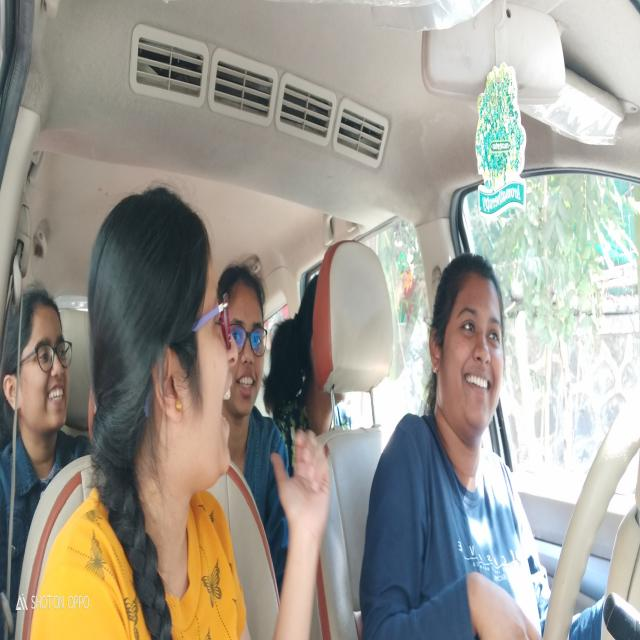person: (87, 185, 233, 498), (2, 292, 70, 444), (218, 256, 271, 412), (297, 277, 351, 420)
talking: (218, 371, 237, 450), (463, 368, 497, 400)
